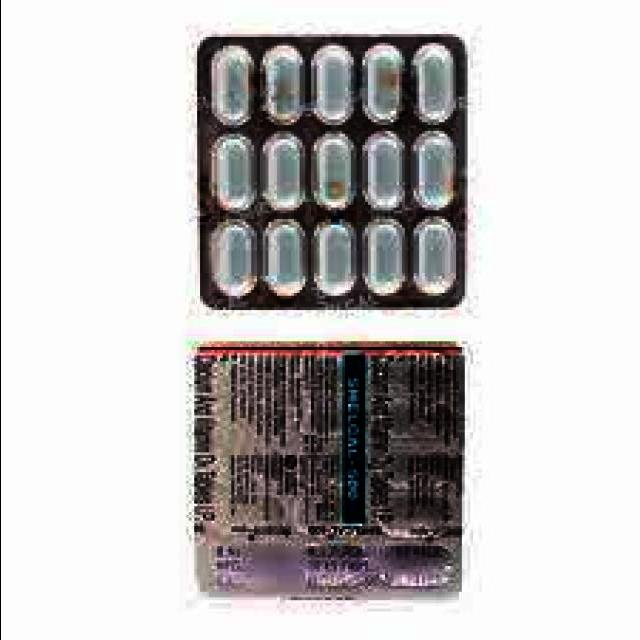authentic: (188, 31, 476, 318), (178, 334, 472, 612)
